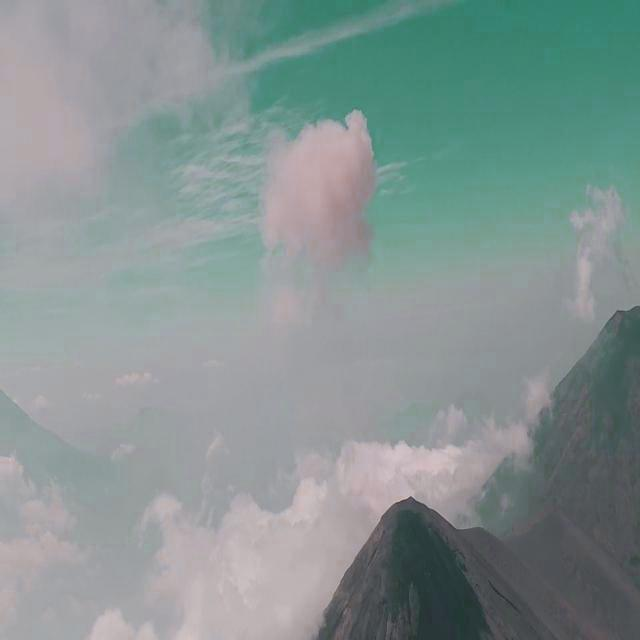Plume: (244, 100, 380, 300)
Summit: (320, 478, 520, 639)
